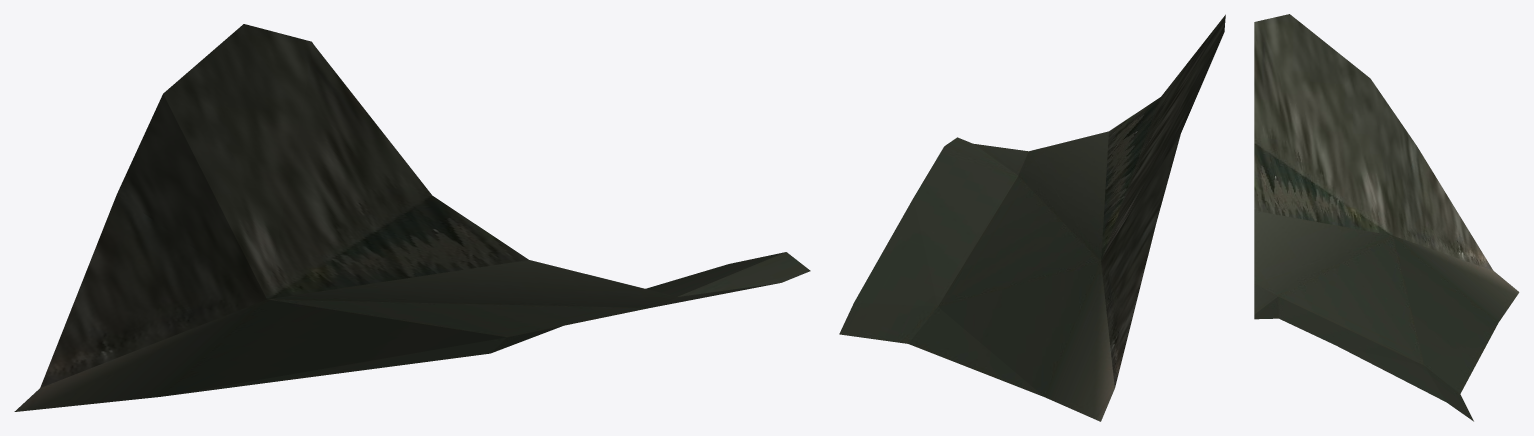
The picture shows the model from 3 angles, left to right: view 1: azimuth 30°, elevation 25°; view 2: azimuth 150°, elevation 25°; view 3: azimuth 270°, elevation 25°; orthographic projection. The views are drawn at different scales.
Size of the model in its own units: 2.95 by 2.95 by 2.55.
Materials: 3 (3 with a texture image).
